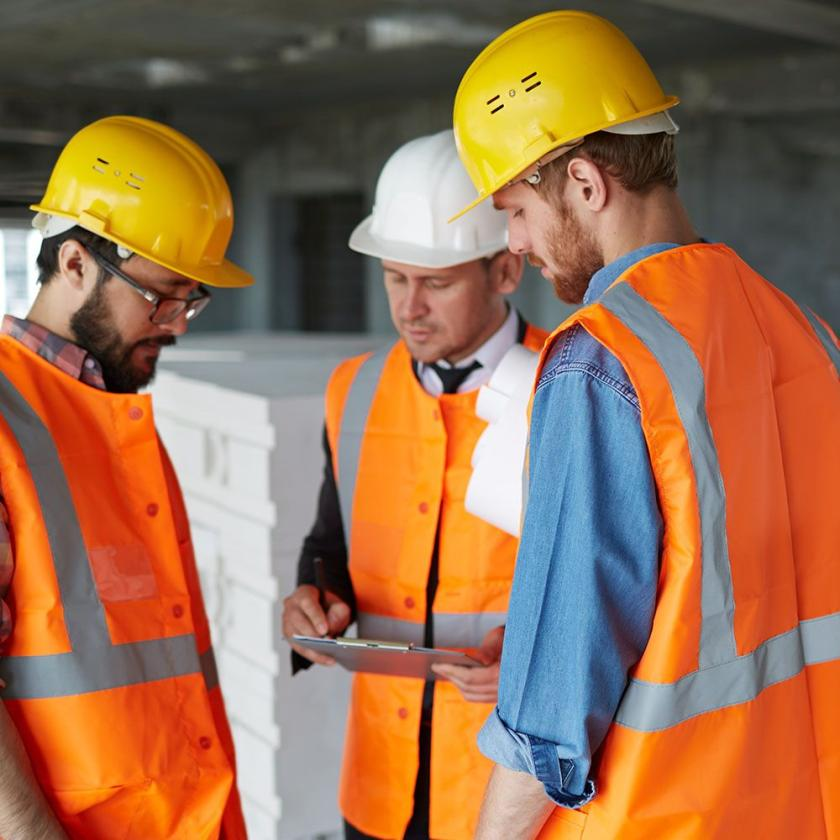Con_casco: (450, 9, 690, 314), (30, 113, 250, 427), (343, 126, 521, 370)
